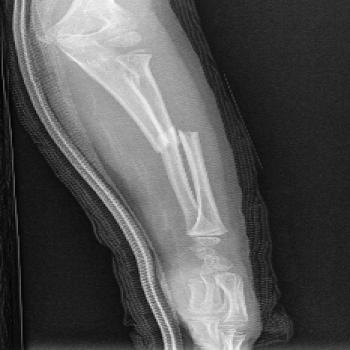Fracture: (143, 124, 205, 154)
